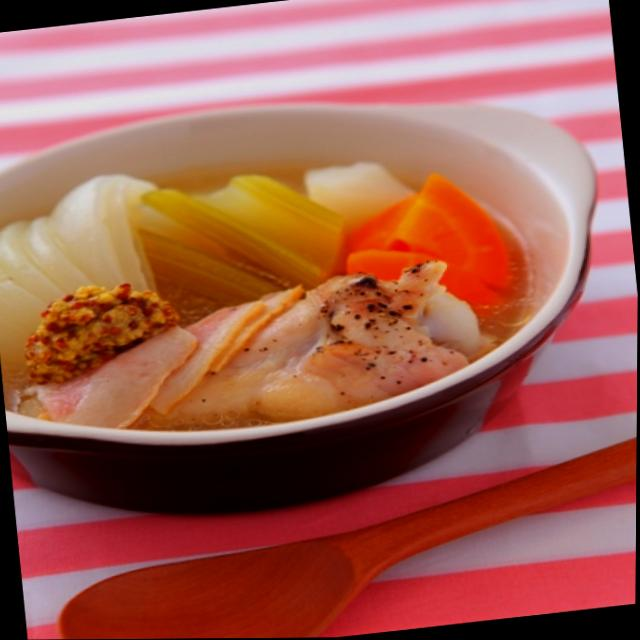汤锅炖物: (0, 40, 611, 520)
